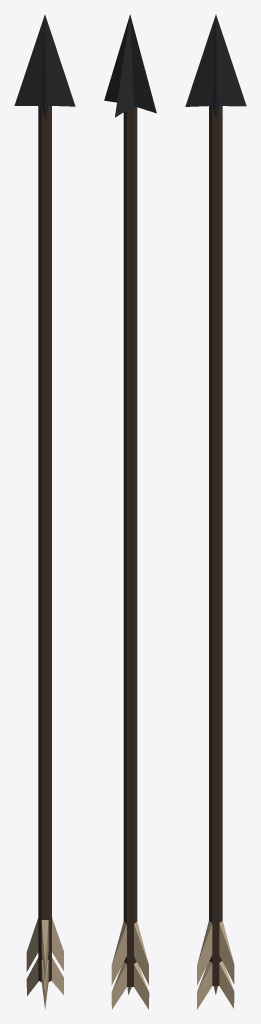
The model's file is Arrow_01.fbx.
3 renders of one model, left to right at view 1: azimuth 90°, elevation 25°; view 2: azimuth 150°, elevation 25°; view 3: azimuth 270°, elevation 25°, orthographic.
Parts seen in each view (by area): view 1: Arrow_01; view 2: Arrow_01; view 3: Arrow_01.
Boxes of the visible parts, x1,y1,x2,y2 form: Arrow_01: [14, 15, 75, 1009]; Arrow_01: [104, 14, 156, 1009]; Arrow_01: [185, 15, 246, 1009].
Size of the model in its own units: 70.5 by 1265 by 71.12.
